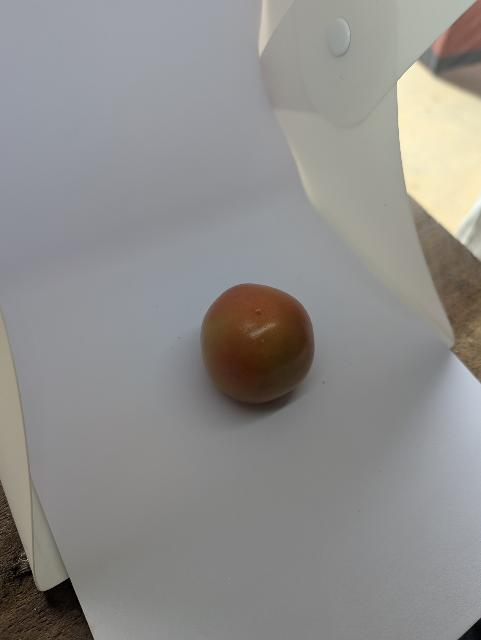red: (191, 274, 334, 423)
